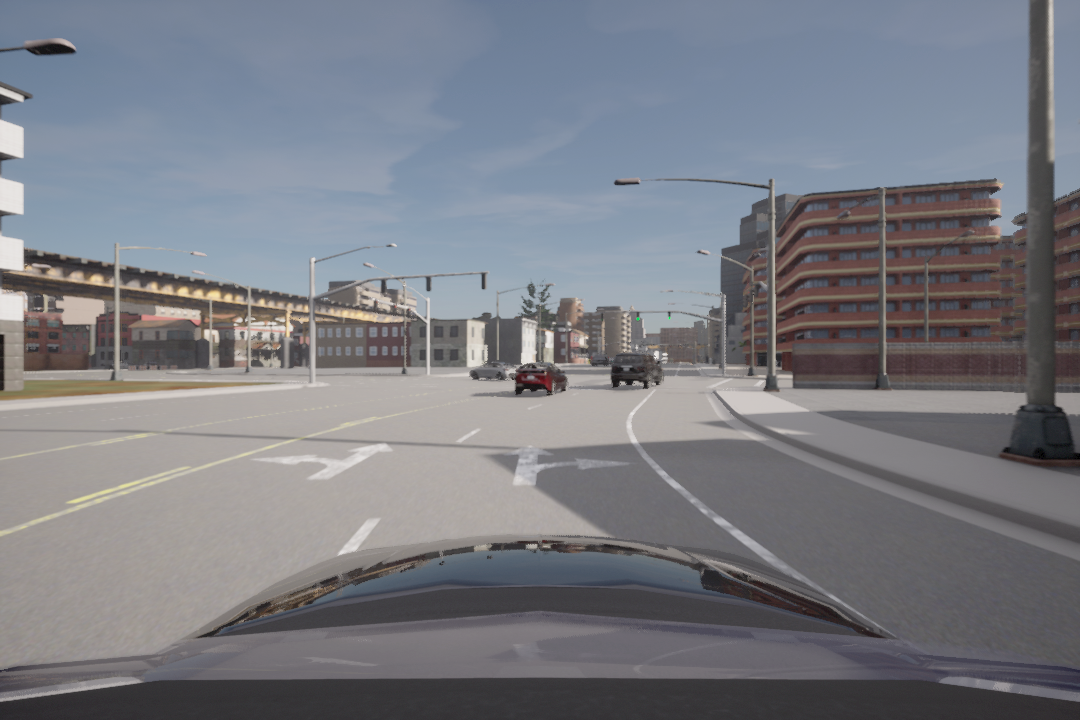RoadSign_forward_left: (252, 441, 409, 489)
RoadSign_forward_right: (473, 437, 635, 493)
